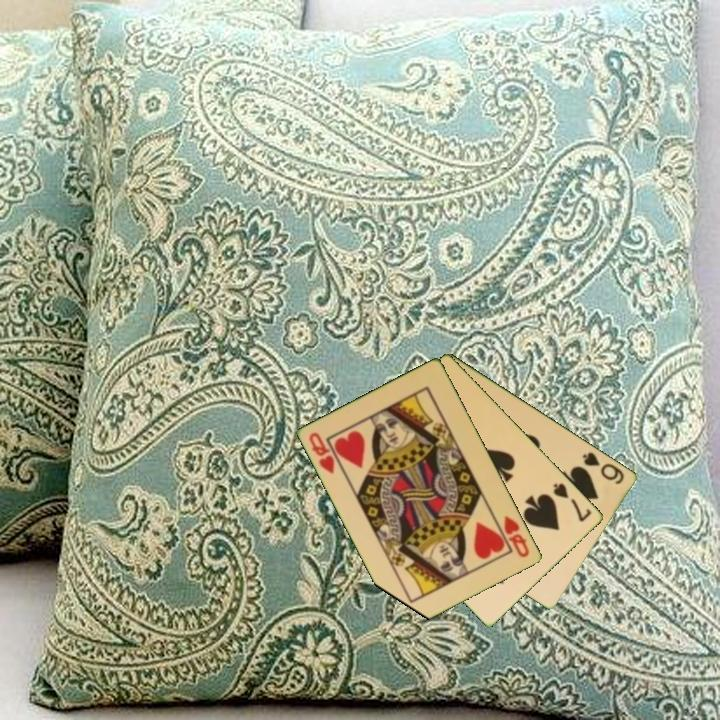6s: (579, 448, 628, 487)
7s: (550, 479, 595, 525)
Qh: (501, 512, 533, 560), (306, 429, 338, 477)
